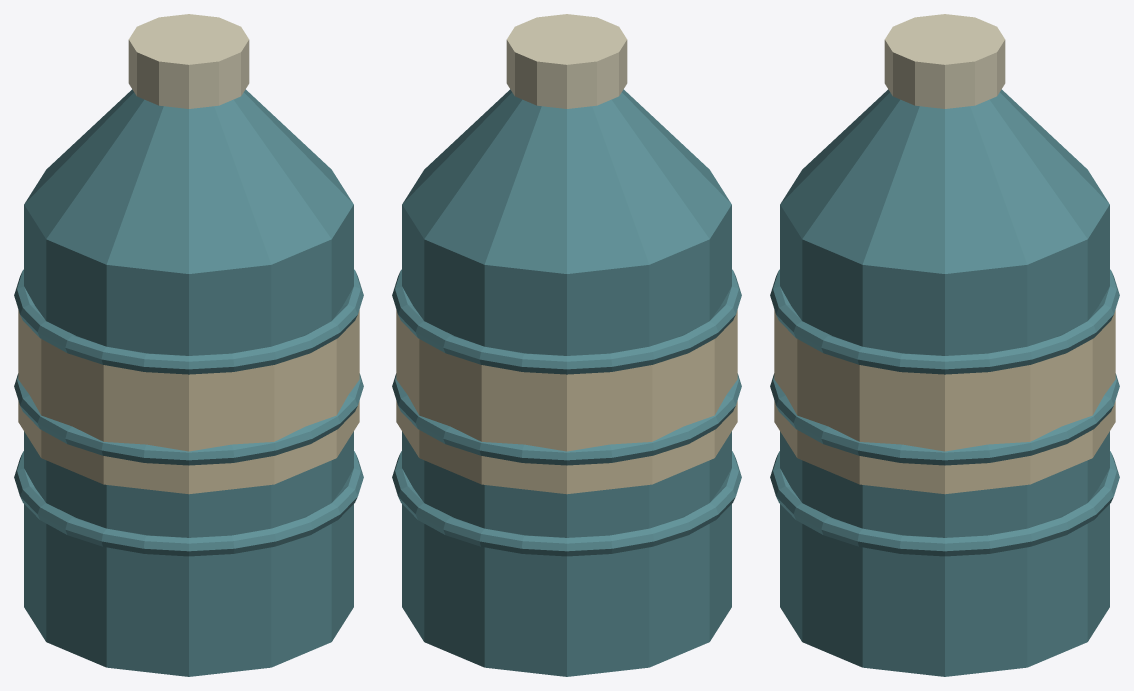
File: Bottle_Squat.glb
3 renders of one model, left to right at view 1: azimuth 30°, elevation 25°; view 2: azimuth 150°, elevation 25°; view 3: azimuth 270°, elevation 25°, orthographic.
Parts seen in each view (by area): view 1: Litter; view 2: Litter; view 3: Litter.
Part boxes in pixels (x1=…): Litter: x1=14, y1=14, x2=363, y2=676; Litter: x1=392, y1=14, x2=741, y2=676; Litter: x1=770, y1=14, x2=1119, y2=676.
Size of the model in its own units: 0.244 by 0.437 by 0.244.
